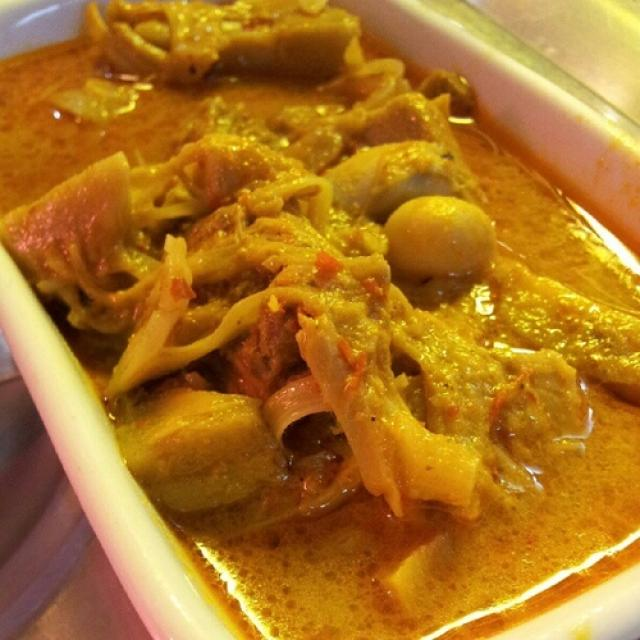熟制海鲜: (27, 34, 626, 546)
